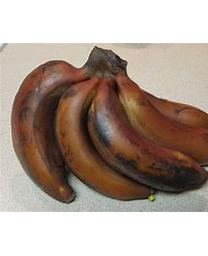banana: (9, 47, 207, 201)
